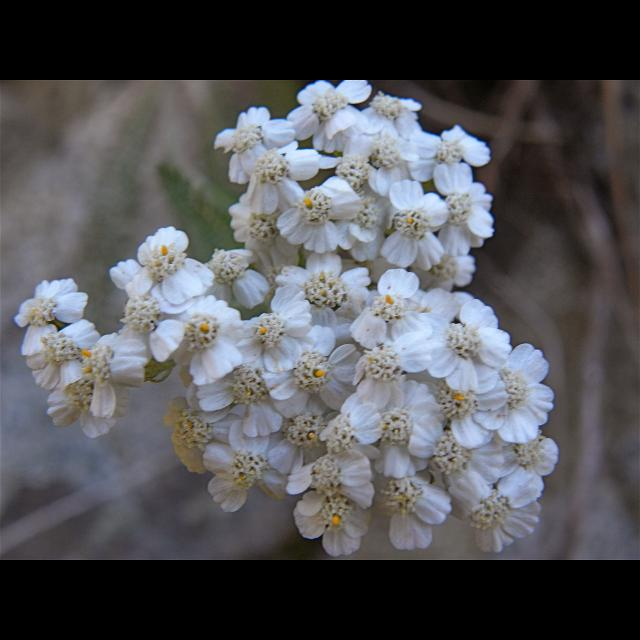Flower: (28, 82, 556, 560), (12, 278, 90, 356)
